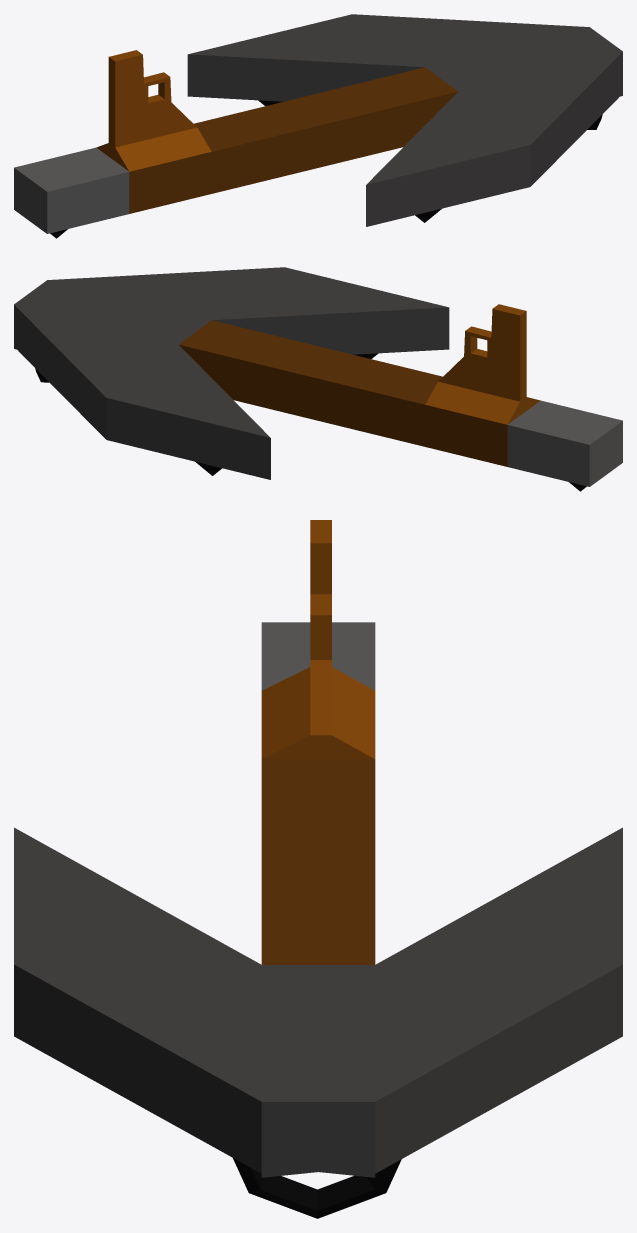
Rendered from Balestra.fbx.
3 renders of one model, top to bottom at view 1: azimuth 30°, elevation 25°; view 2: azimuth 150°, elevation 25°; view 3: azimuth 270°, elevation 25°, orthographic. The views are drawn at different scales.
Parts seen in each view (by area): view 1: pCylinder4; view 2: pCylinder4; view 3: pCylinder4.
Boxes of the visible parts, <box> form: pCylinder4: <box>14,14,622,238</box>; pCylinder4: <box>14,267,622,491</box>; pCylinder4: <box>14,520,622,1218</box>.
Bounding box in the file's own units: 7 × 2.13 × 3.76.
